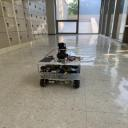cart: (36, 56, 81, 88)
